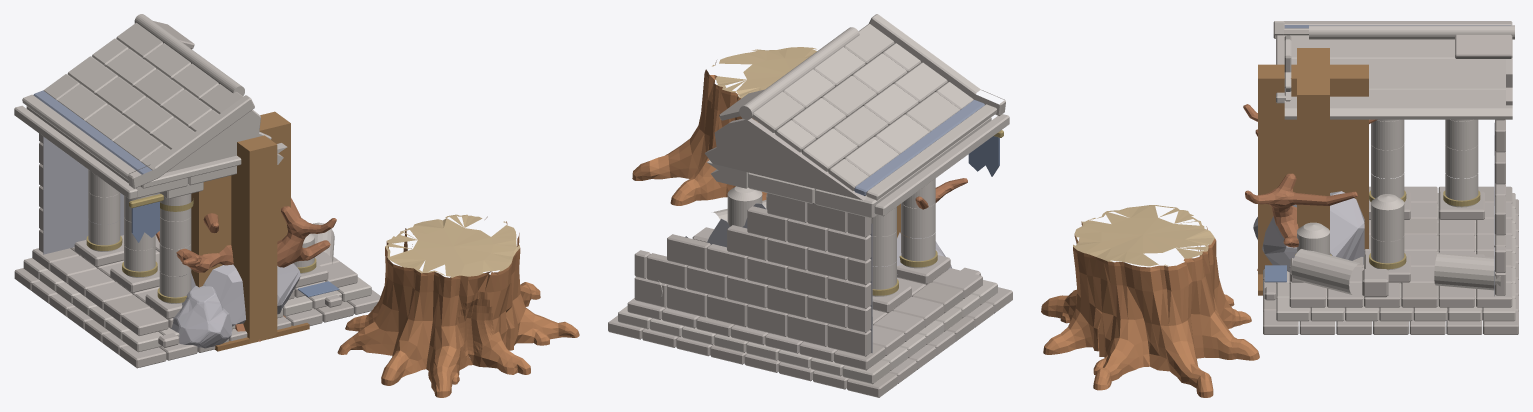
File: map.glb
3 views of the same model, side by side, from view 1: azimuth 30°, elevation 25°; view 2: azimuth 150°, elevation 25°; view 3: azimuth 270°, elevation 25° (orthographic). The views are drawn at different scales.
Visible parts, largest first — view 1: statueb, sacred, door_v, rock, hwall_10, deadtree, hwall_1, floor; view 2: statueb, sacred, deadtree; view 3: statueb, sacred, door_v, hwall_10, rock, hwall_12, deadtree, hwall_1.
Boxes of the visible parts, box(x1,y1,x2,y2) form: statueb: box(14, 14, 380, 368); sacred: box(337, 214, 579, 397); door_v: box(231, 135, 277, 343); rock: box(171, 263, 300, 348); hwall_10: box(231, 111, 290, 338); deadtree: box(156, 198, 336, 341); hwall_1: box(191, 175, 231, 287); floor: box(215, 323, 309, 351); statueb: box(608, 14, 1012, 397); sacred: box(632, 47, 816, 205); deadtree: box(915, 178, 967, 209); statueb: box(1263, 21, 1518, 334); sacred: box(1041, 205, 1259, 397); door_v: box(1258, 64, 1368, 274); hwall_10: box(1258, 64, 1329, 274); rock: box(1253, 191, 1364, 271); hwall_12: box(1313, 64, 1368, 248); deadtree: box(1243, 104, 1377, 270); hwall_1: box(1297, 48, 1329, 73).
Size of the model in its own units: 4.11 by 2.47 by 4.32.
